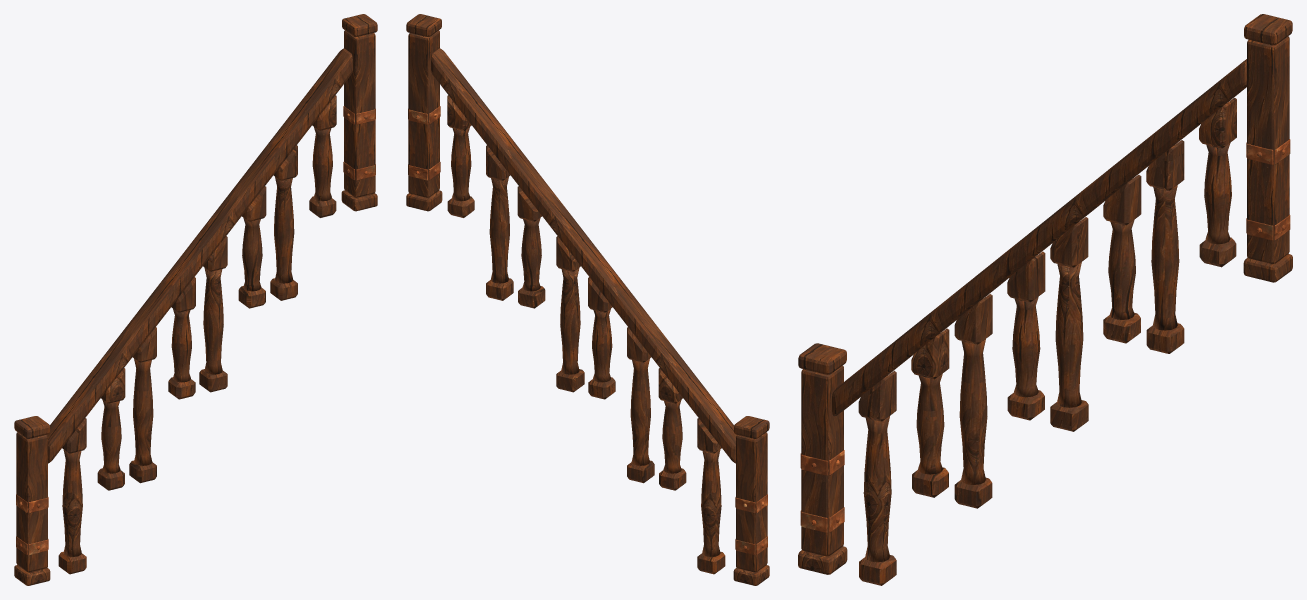
File: railing_stairs__clay_brick.glb
The picture shows the model from 3 angles, left to right: view 1: azimuth 30°, elevation 25°; view 2: azimuth 150°, elevation 25°; view 3: azimuth 330°, elevation 25°; orthographic projection. The views are drawn at different scales.
Visible parts, largest first — view 1: model; view 2: model; view 3: model.
Part boxes in pixels (x1,y1,x2,y2): model: (14,14,377,585); model: (406,14,769,585); model: (798,14,1292,585).
Bounding box in the file's own units: 1.99 × 2.58 × 0.1389.
Materials: 2 (2 with a texture image).
